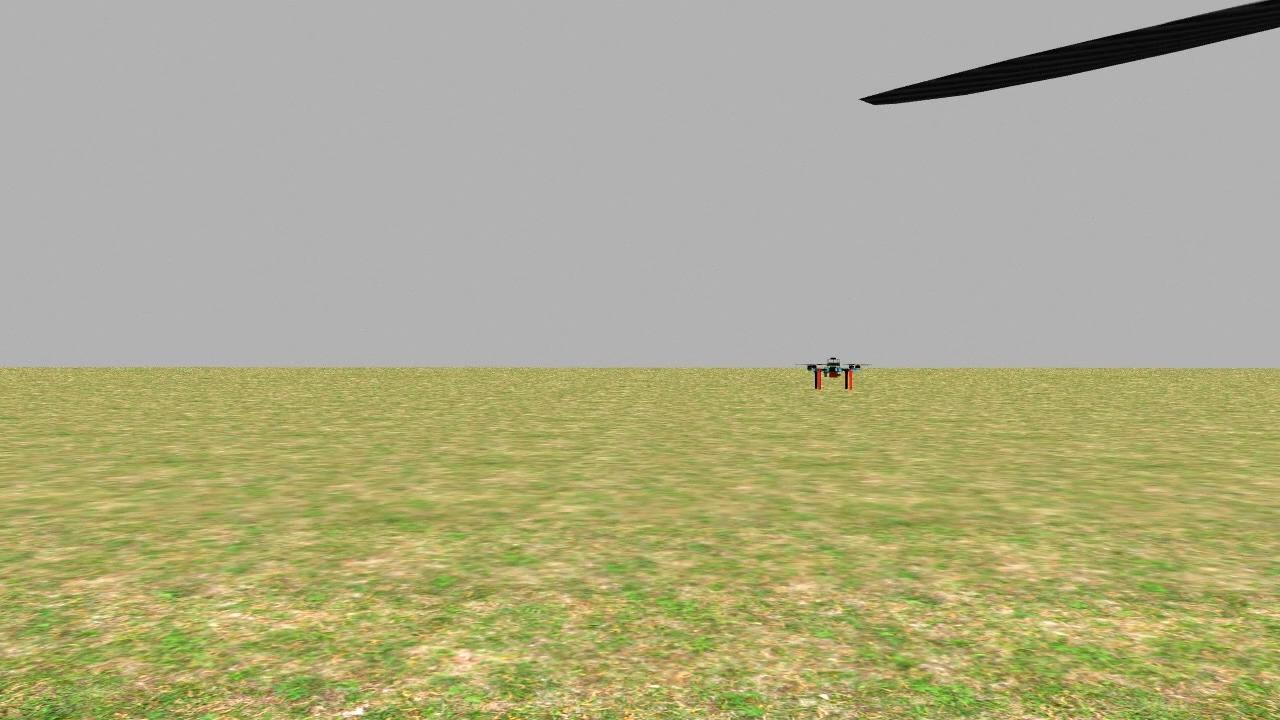UAV: (797, 329, 870, 403)
